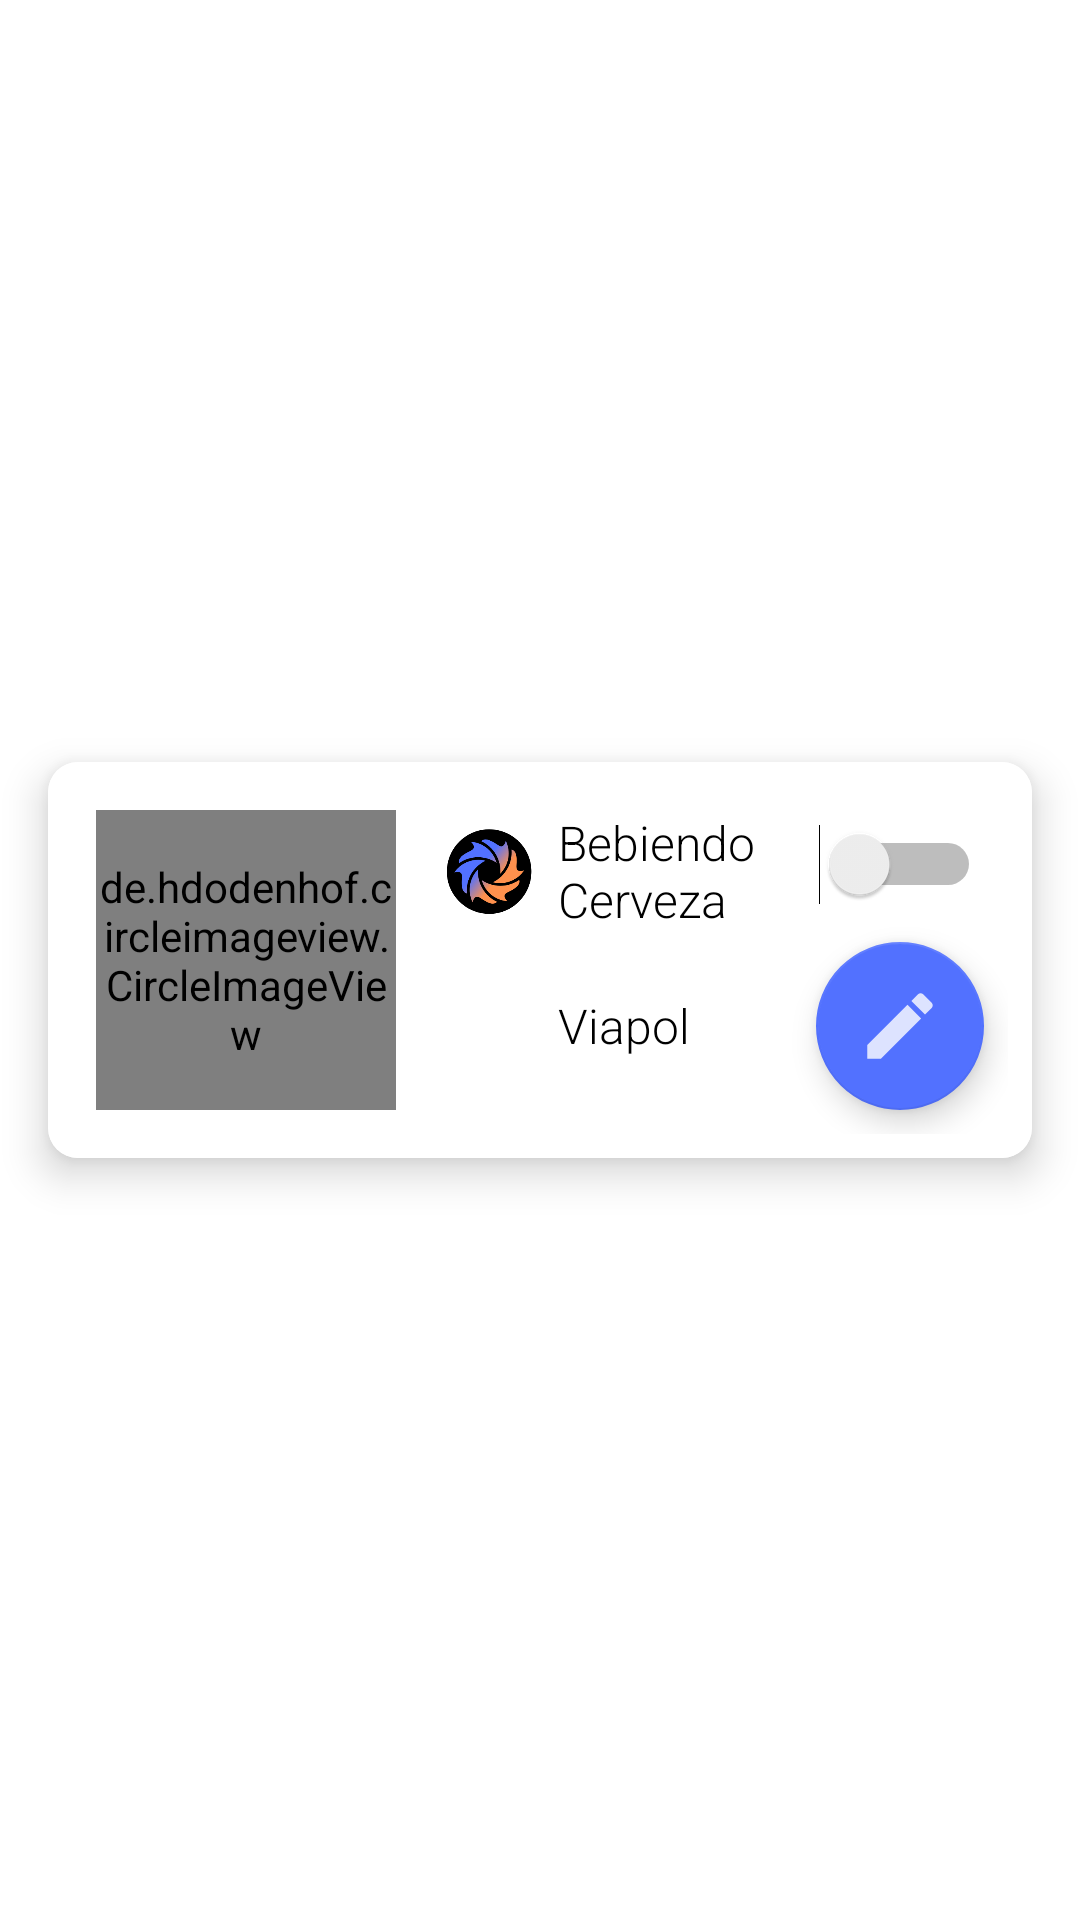

Icon click points for this 1080px×1920px phone screenshot, format (x=x, y=y):
edit: (x=900, y=1026)
